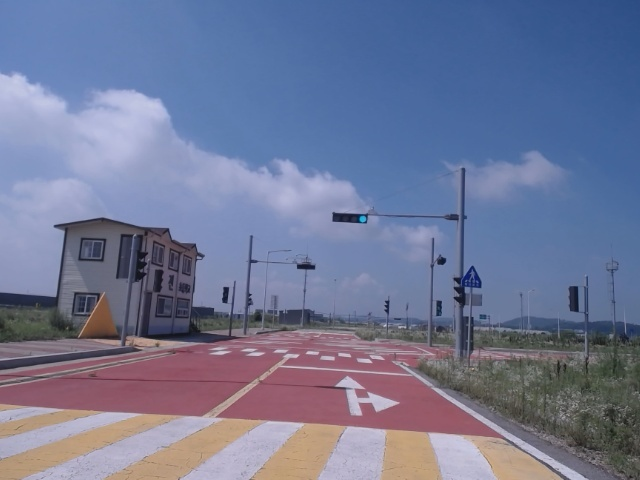straight_green_4: (333, 213, 368, 223)
